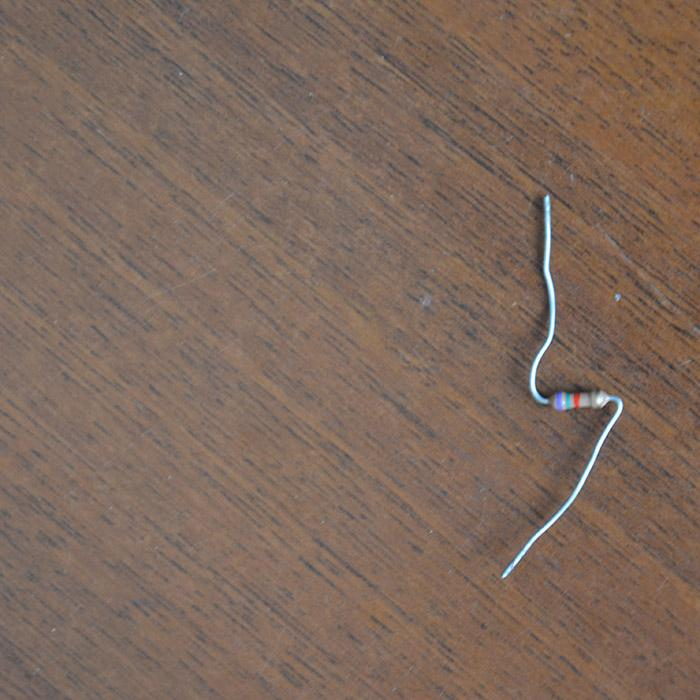resistor: (548, 387, 615, 411)
